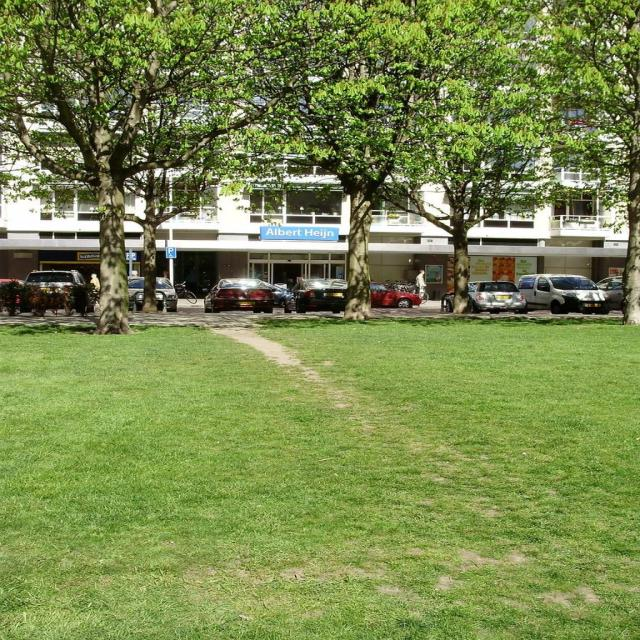car: (517, 269, 611, 312), (198, 275, 280, 310), (458, 277, 522, 314), (368, 283, 420, 306)
